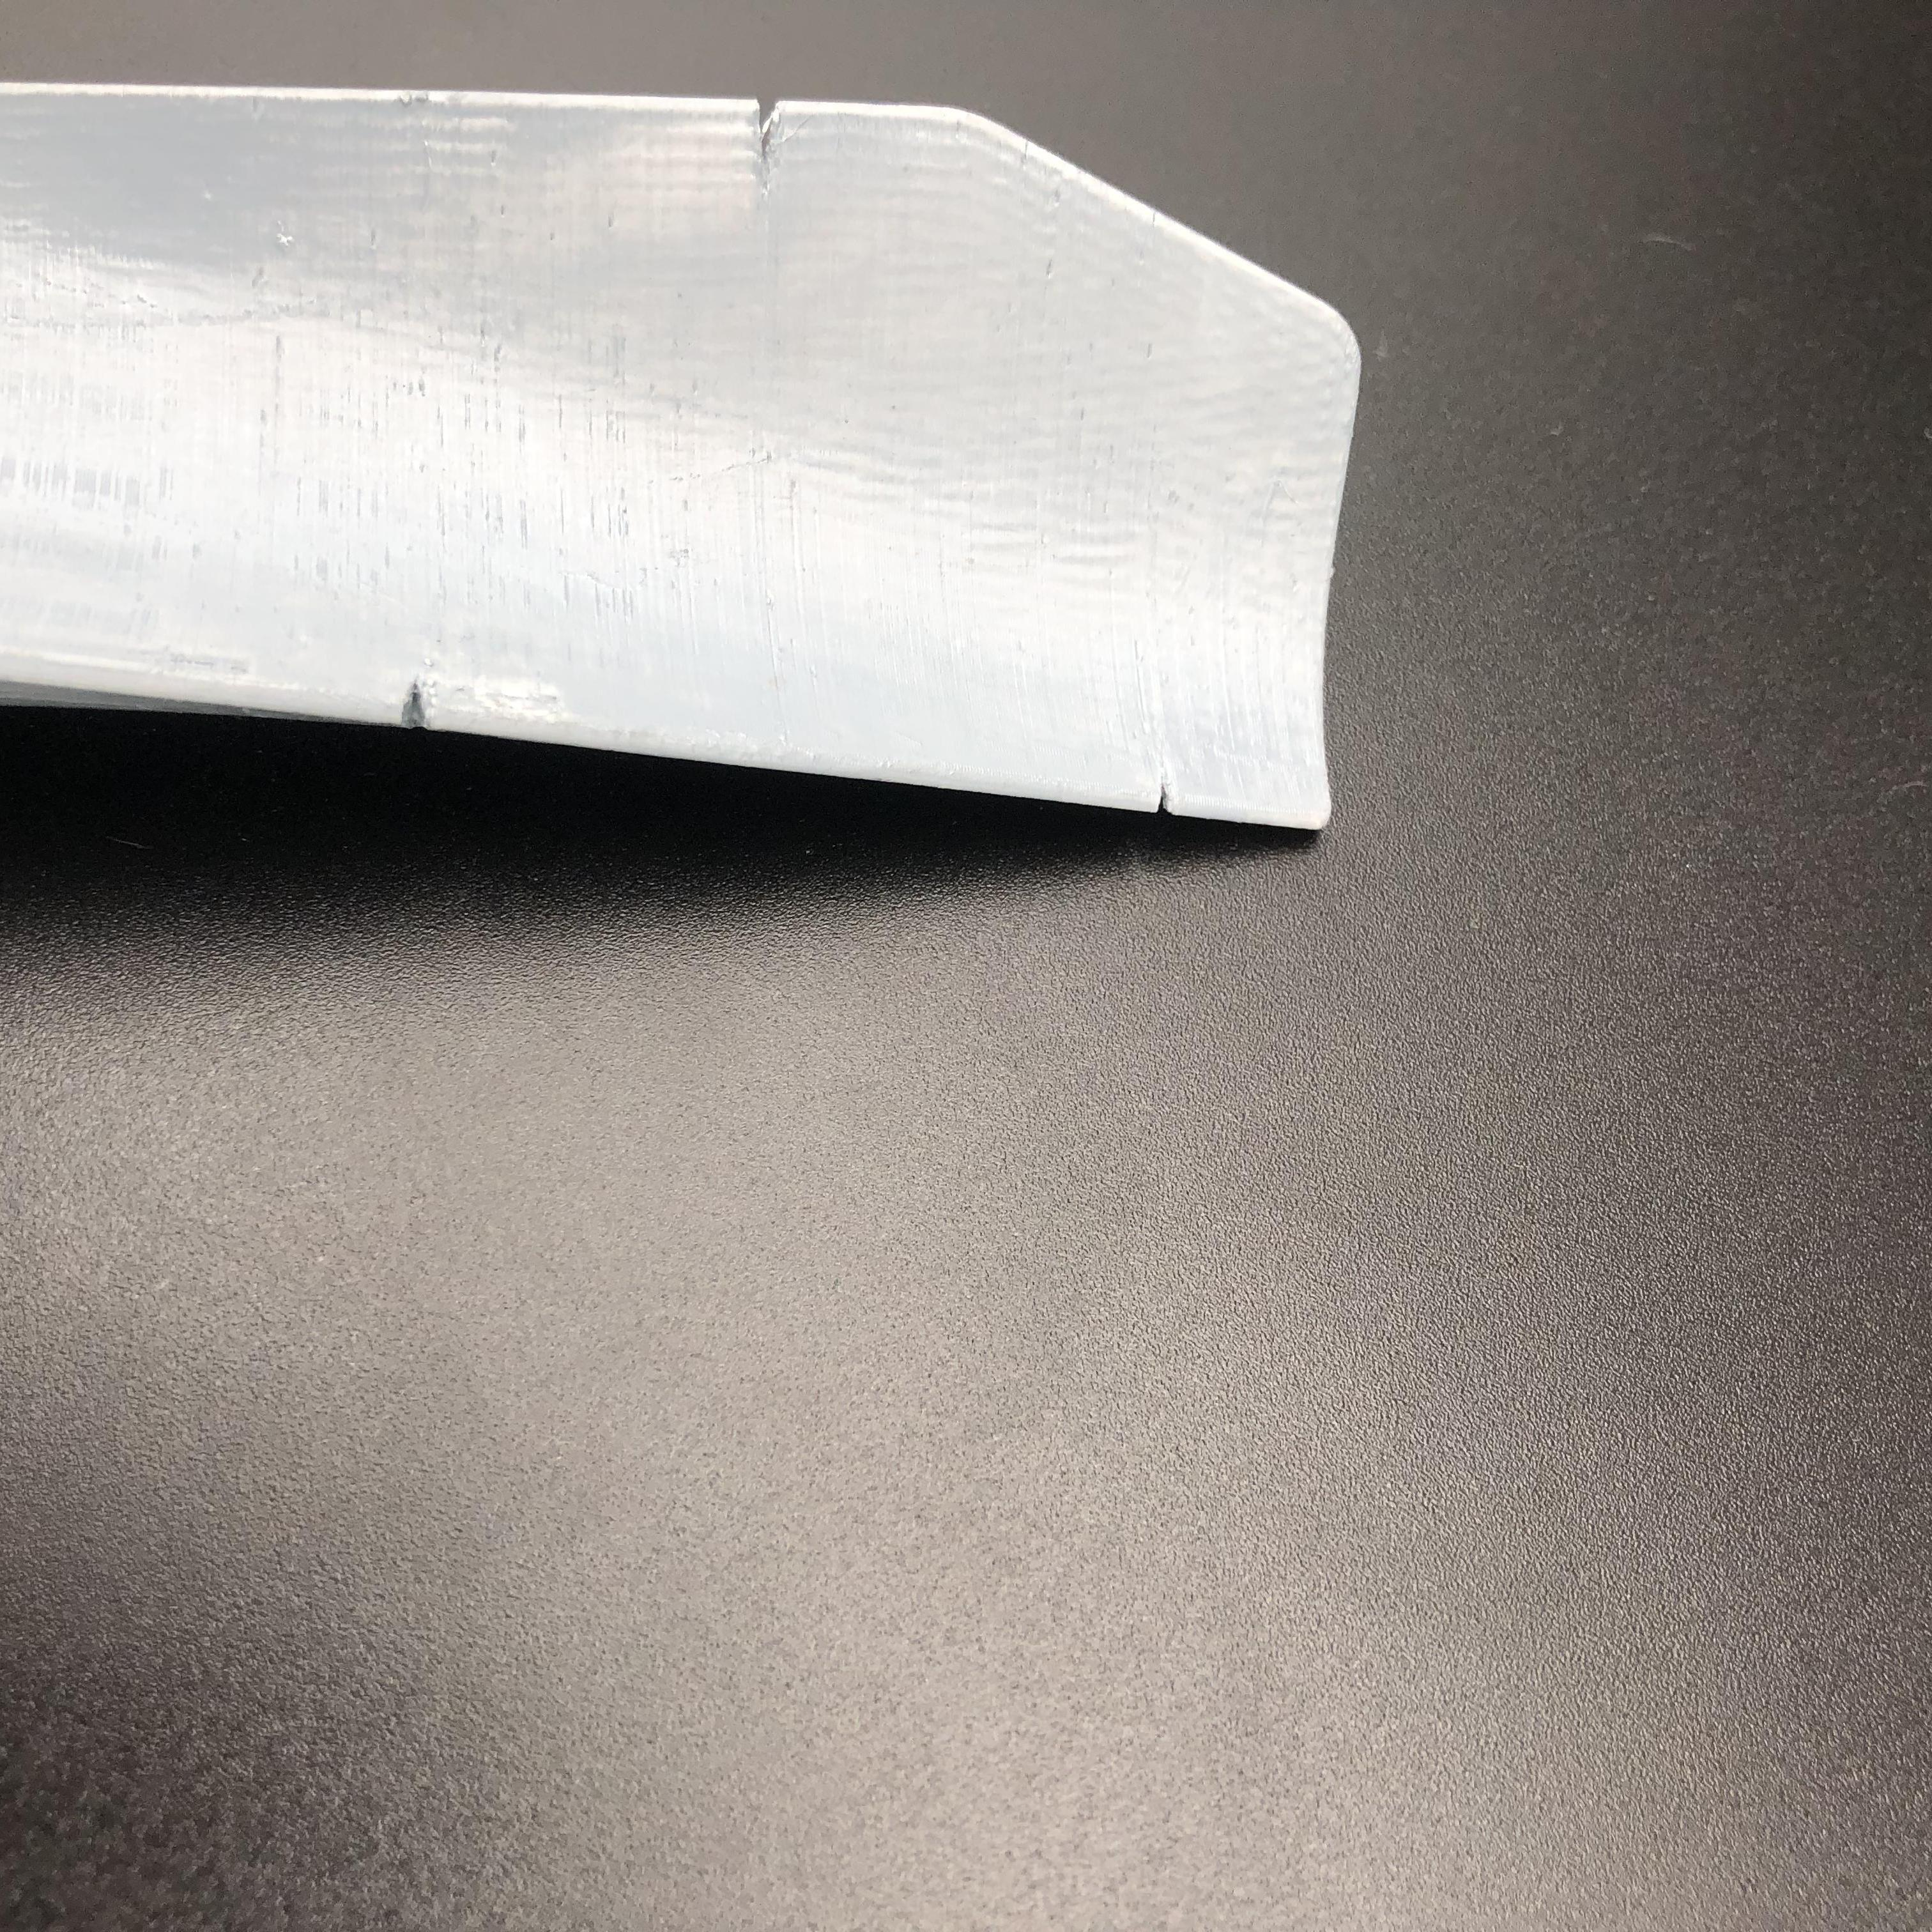groove: (741, 106, 798, 193), (395, 674, 439, 727), (1143, 780, 1182, 817)
